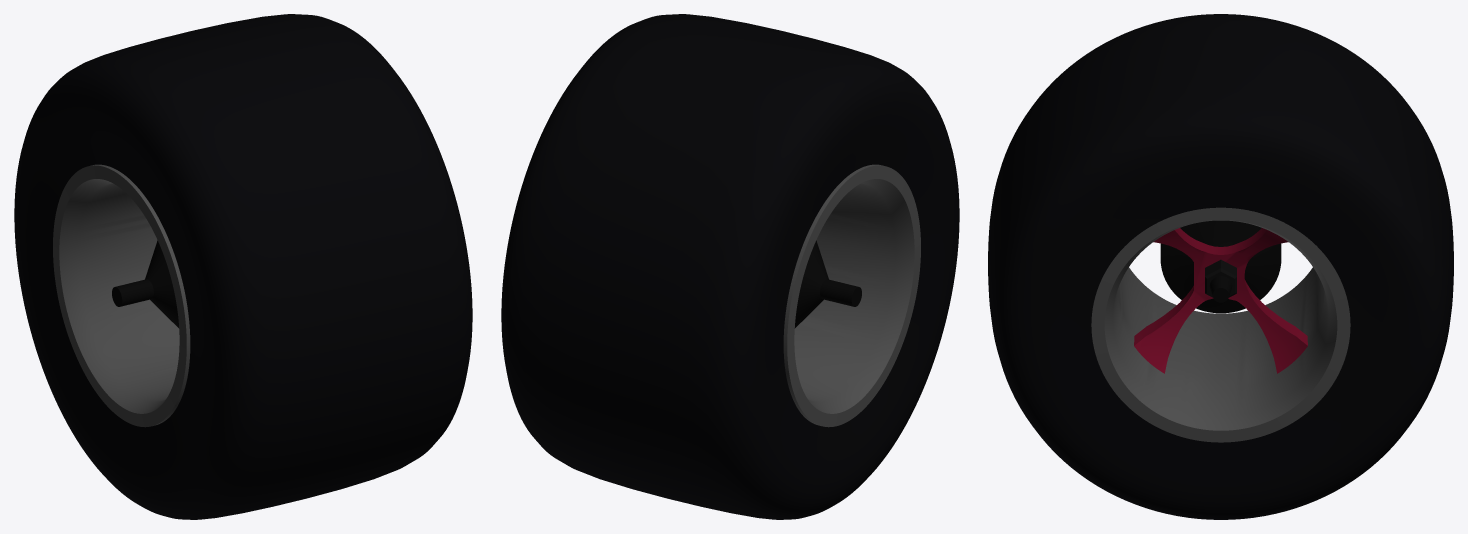
The model's file is lancer.obj.
3 renders of one model, left to right at view 1: azimuth 30°, elevation 25°; view 2: azimuth 150°, elevation 25°; view 3: azimuth 270°, elevation 25°, orthographic. The views are drawn at different scales.
Parts seen in each view (by area): view 1: Cylinder; view 2: Cylinder; view 3: Cylinder.
Boxes of the visible parts, left/top/right/bottom form: Cylinder: left=14, top=14, right=472, bottom=519; Cylinder: left=501, top=14, right=959, bottom=519; Cylinder: left=988, top=14, right=1453, bottom=519.
Bounding box in the file's own units: 2.08 × 3.46 × 3.46.
